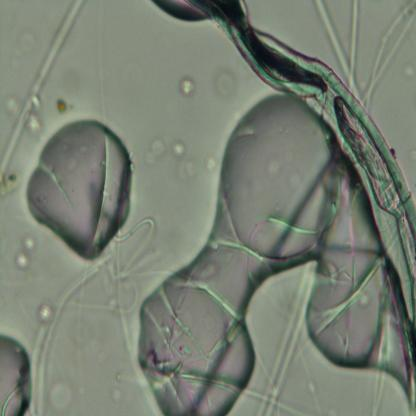Air bubble: (140, 85, 394, 413), (26, 119, 133, 261), (0, 333, 31, 416), (152, 0, 209, 26)
Background material: (170, 139, 200, 179), (50, 379, 72, 413), (144, 135, 166, 168), (15, 233, 35, 269), (214, 68, 235, 99), (0, 170, 25, 196), (34, 298, 56, 326), (6, 95, 23, 118), (28, 113, 44, 136), (178, 77, 196, 96), (206, 156, 219, 172), (56, 98, 68, 115)
Cotton: (193, 1, 416, 324)
Glass filter fibre: (0, 0, 85, 175), (258, 265, 316, 414), (316, 256, 386, 335), (363, 2, 416, 104), (314, 1, 360, 98), (116, 215, 156, 253), (244, 388, 301, 413), (348, 0, 362, 90), (2, 385, 24, 414)
